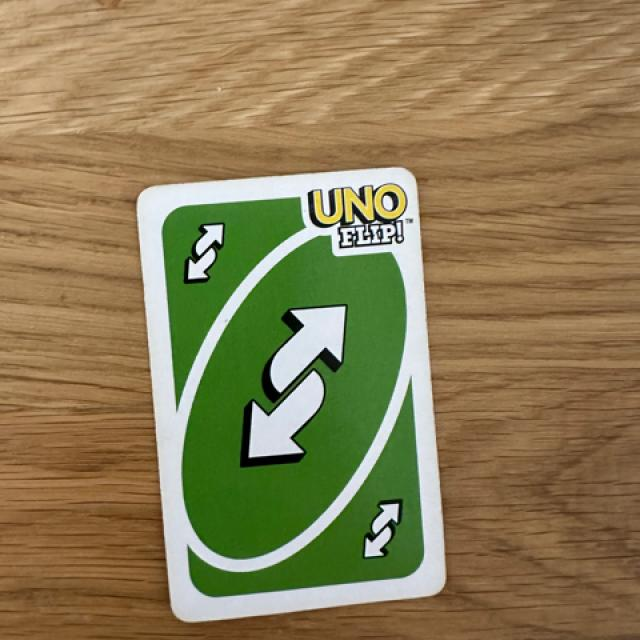lgreenrevers-20: (156, 199, 257, 313)
